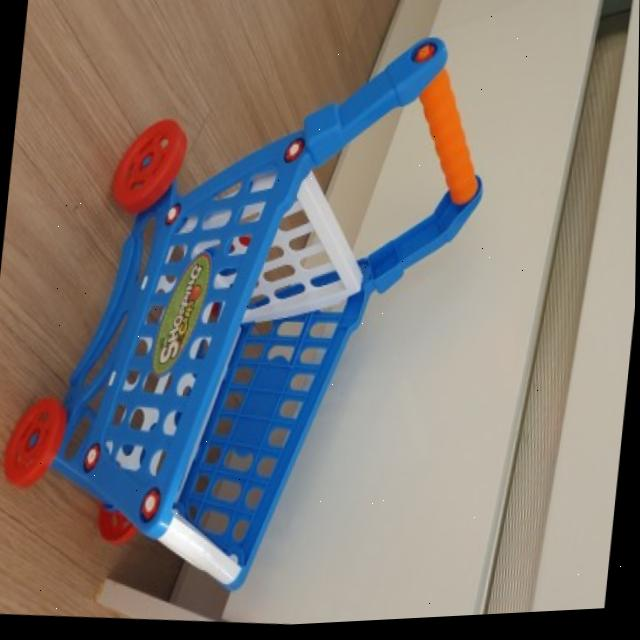Dry: (0, 0, 508, 640)
